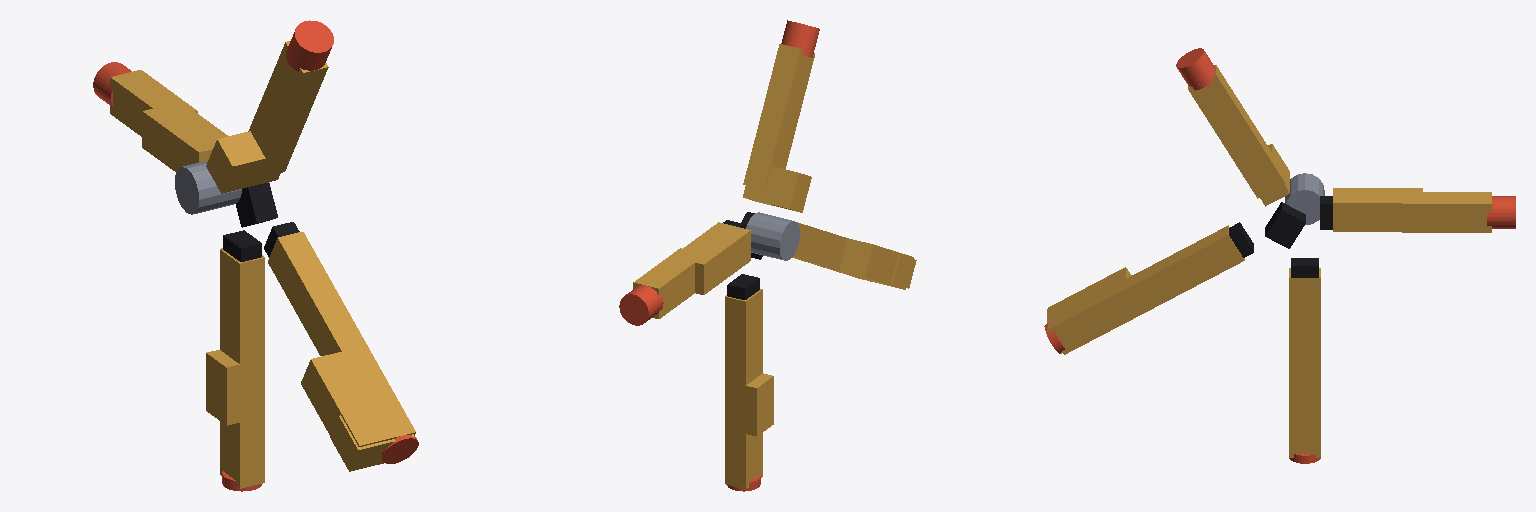
robot.urdf — g0007_c01:
<robot name="g0007_c01">
  <link name="palm">
    <visual name="palm_palm1">
      <origin xyz="0 0 0" rpy="0 0 0" />
      <geometry>
        <mesh filename="palm_palm1.obj" />
      </geometry>
      <material name="palm_palm1_mat">
        <color rgba="0.55 0.57 0.62 1" />
      </material>
    </visual>
    <collision>
      <origin xyz="0 0 0" rpy="0 0 0" />
      <geometry>
        <mesh filename="palm_palm1.obj" />
      </geometry>
    </collision>
    <visual name="palm_mount2">
      <origin xyz="0 0 0" rpy="0 0 0" />
      <geometry>
        <mesh filename="palm_mount2.obj" />
      </geometry>
      <material name="palm_mount2_mat">
        <color rgba="0.55 0.57 0.62 1" />
      </material>
    </visual>
    <collision>
      <origin xyz="0 0 0" rpy="0 0 0" />
      <geometry>
        <mesh filename="palm_mount2.obj" />
      </geometry>
    </collision>
    <visual name="palm_hinge3">
      <origin xyz="0 -0.019910254 -0.0144855716" rpy="1.57079633 -0.523598776 -1.57079633" />
      <geometry>
        <box size="0.029 0.034 0.02" />
      </geometry>
      <material name="palm_hinge3_mat">
        <color rgba="0.15 0.15 0.17 1" />
      </material>
    </visual>
    <collision>
      <origin xyz="0 -0.019910254 -0.0144855716" rpy="1.57079633 -0.523598776 -1.57079633" />
      <geometry>
        <box size="0.029 0.034 0.02" />
      </geometry>
    </collision>
    <visual name="palm_motor4">
      <origin xyz="-0.0265 -0.03625 0.0335048095" rpy="-1.04719755 -3.061617e-17 5.30287619e-17" />
      <geometry>
        <box size="0.029 0.034 0.02" />
      </geometry>
      <material name="palm_motor4_mat">
        <color rgba="0.15 0.15 0.17 1" />
      </material>
    </visual>
    <collision>
      <origin xyz="-0.0265 -0.03625 0.0335048095" rpy="-1.04719755 -3.061617e-17 5.30287619e-17" />
      <geometry>
        <box size="0.029 0.034 0.02" />
      </geometry>
    </collision>
    <visual name="palm_motor5">
      <origin xyz="0 0.0325 -4.5924255e-19" rpy="-3.14159265 1.57079633 0" />
      <geometry>
        <box size="0.029 0.034 0.02" />
      </geometry>
      <material name="palm_motor5_mat">
        <color rgba="0.15 0.15 0.17 1" />
      </material>
    </visual>
    <collision>
      <origin xyz="0 0.0325 -4.5924255e-19" rpy="-3.14159265 1.57079633 0" />
      <geometry>
        <box size="0.029 0.034 0.02" />
      </geometry>
    </collision>
    <inertial>
      <origin xyz="0 -0.00486983196 0.0078646314" rpy="1.57079633 0.505697637 1.57079633" />
      <mass value="0.314803238" />
      <inertia ixx="0.000115396205" ixy="0" ixz="0" iyy="0.000393935147" iyz="0" izz="0.000479110242" />
    </inertial>
  </link>
  <link name="palm0">
    <visual name="palm0_palm1">
      <origin xyz="0 0 0" rpy="0 0 0" />
      <geometry>
        <mesh filename="palm0_palm1.obj" />
      </geometry>
      <material name="palm0_palm1_mat">
        <color rgba="0.55 0.57 0.62 1" />
      </material>
    </visual>
    <collision>
      <origin xyz="0 0 0" rpy="0 0 0" />
      <geometry>
        <mesh filename="palm0_palm1.obj" />
      </geometry>
    </collision>
    <visual name="palm0_motor2">
      <origin xyz="0 -0.0498445554 -0.0152692379" rpy="1.57079633 -1.04719755 -1.57079633" />
      <geometry>
        <box size="0.029 0.034 0.02" />
      </geometry>
      <material name="palm0_motor2_mat">
        <color rgba="0.15 0.15 0.17 1" />
      </material>
    </visual>
    <collision>
      <origin xyz="0 -0.0498445554 -0.0152692379" rpy="1.57079633 -1.04719755 -1.57079633" />
      <geometry>
        <box size="0.029 0.034 0.02" />
      </geometry>
    </collision>
    <visual name="palm0_motor3">
      <origin xyz="0 0.023660254 -0.0515192379" rpy="1.57079633 1.2246468e-16 -1.57079633" />
      <geometry>
        <box size="0.029 0.034 0.02" />
      </geometry>
      <material name="palm0_motor3_mat">
        <color rgba="0.15 0.15 0.17 1" />
      </material>
    </visual>
    <collision>
      <origin xyz="0 0.023660254 -0.0515192379" rpy="1.57079633 1.2246468e-16 -1.57079633" />
      <geometry>
        <box size="0.029 0.034 0.02" />
      </geometry>
    </collision>
    <inertial>
      <origin xyz="-4.36574526e-19 -0.0128284842 -0.0281122039" rpy="1.57079633 0.502992561 1.57079633" />
      <mass value="0.282942844" />
      <inertia ixx="8.18050771e-05" ixy="0" ixz="0" iyy="0.000371115381" iyz="0" izz="0.000425757945" />
    </inertial>
  </link>
  <link name="f0_link0">
    <visual name="f0_link0_link1">
      <origin xyz="0.02375 0 -1.38777878e-17" rpy="0 -3.98552134e-18 0" />
      <geometry>
        <box size="0.0715 0.024 0.033" />
      </geometry>
      <material name="f0_link0_link1_mat">
        <color rgba="0.80 0.62 0.30 1" />
      </material>
    </visual>
    <collision>
      <origin xyz="0.02375 0 -1.38777878e-17" rpy="0 -3.98552134e-18 0" />
      <geometry>
        <box size="0.0715 0.024 0.033" />
      </geometry>
    </collision>
    <inertial>
      <origin xyz="0.02375 0 0" rpy="0 0 0" />
      <mass value="0.099099" />
      <inertia ixx="1.37499863e-05" ixy="0" ixz="0" iyy="5.12114728e-05" iyz="0" izz="4.69749906e-05" />
    </inertial>
  </link>
  <link name="f0_link1">
    <visual name="f0_link1_link1">
      <origin xyz="0.03375 0 -7.80625564e-18" rpy="0 -3.98552134e-18 0" />
      <geometry>
        <box size="0.0915 0.024 0.033" />
      </geometry>
      <material name="f0_link1_link1_mat">
        <color rgba="0.80 0.62 0.30 1" />
      </material>
    </visual>
    <collision>
      <origin xyz="0.03375 0 -7.80625564e-18" rpy="0 -3.98552134e-18 0" />
      <geometry>
        <box size="0.0915 0.024 0.033" />
      </geometry>
    </collision>
    <inertial>
      <origin xyz="0.03375 0 0" rpy="0 0 0" />
      <mass value="0.126819" />
      <inertia ixx="1.75961363e-05" ixy="0" ixz="0" iyy="9.99888553e-05" iyz="0" izz="9.45673431e-05" />
    </inertial>
  </link>
  <link name="f0_link2">
    <visual name="f0_link2_link1">
      <origin xyz="0.03375 -0.0145 -1.82145965e-17" rpy="0 -3.98552134e-18 0" />
      <geometry>
        <box size="0.0915 0.053 0.033" />
      </geometry>
      <material name="f0_link2_link1_mat">
        <color rgba="0.80 0.62 0.30 1" />
      </material>
    </visual>
    <collision>
      <origin xyz="0.03375 -0.0145 -1.82145965e-17" rpy="0 -3.98552134e-18 0" />
      <geometry>
        <box size="0.0915 0.053 0.033" />
      </geometry>
    </collision>
    <inertial>
      <origin xyz="0.03375 -0.0145 0" rpy="0 0 0" />
      <mass value="0.280058625" />
      <inertia ixx="9.09723767e-05" ixy="0" ixz="0" iyy="0.000220808722" iyz="0" izz="0.000260950458" />
    </inertial>
  </link>
  <link name="f0_link3">
    <visual name="f0_link3_link1">
      <origin xyz="-0.00625 -0.0165 7.80625564e-18" rpy="0 -3.98552134e-18 0" />
      <geometry>
        <box size="0.0365 0.053 0.029" />
      </geometry>
      <material name="f0_link3_link1_mat">
        <color rgba="0.80 0.62 0.30 1" />
      </material>
    </visual>
    <collision>
      <origin xyz="-0.00625 -0.0165 7.80625564e-18" rpy="0 -3.98552134e-18 0" />
      <geometry>
        <box size="0.0365 0.053 0.029" />
      </geometry>
    </collision>
    <inertial>
      <origin xyz="-0.00625 -0.0165 0" rpy="0 0 0" />
      <mass value="0.098175875" />
      <inertia ixx="2.98618286e-05" ixy="0" ixz="0" iyy="1.778006e-05" iyz="0" izz="3.38809035e-05" />
    </inertial>
  </link>
  <link name="f0_link4">
    <visual name="f0_link4_link1">
      <origin xyz="0.009 0 -1.77809156e-17" rpy="-1.57079633 -0 -1.57079633" />
      <geometry>
        <cylinder radius="0.0165" length="0.009" />
      </geometry>
      <material name="f0_link4_link1_mat">
        <color rgba="0.85 0.35 0.25 1" />
      </material>
    </visual>
    <collision>
      <origin xyz="0.009 0 -1.77809156e-17" rpy="-1.57079633 -0 -1.57079633" />
      <geometry>
        <cylinder radius="0.0165" length="0.009" />
      </geometry>
    </collision>
    <inertial>
      <origin xyz="0.009 0 0" rpy="0 0 0" />
      <mass value="0.046399949" />
      <inertia ixx="5.41970115e-06" ixy="0" ixz="0" iyy="7.09430898e-06" iyz="0" izz="7.09430898e-06" />
    </inertial>
  </link>
  <link name="f1_link0">
    <visual name="f1_link0_link1">
      <origin xyz="-0.00625 -0.0165 0" rpy="0 3.98552134e-18 0" />
      <geometry>
        <box size="0.0365 0.053 0.029" />
      </geometry>
      <material name="f1_link0_link1_mat">
        <color rgba="0.80 0.62 0.30 1" />
      </material>
    </visual>
    <collision>
      <origin xyz="-0.00625 -0.0165 0" rpy="0 3.98552134e-18 0" />
      <geometry>
        <box size="0.0365 0.053 0.029" />
      </geometry>
    </collision>
    <inertial>
      <origin xyz="-0.00625 -0.0165 0" rpy="0 0 0" />
      <mass value="0.098175875" />
      <inertia ixx="2.98618286e-05" ixy="0" ixz="0" iyy="1.778006e-05" iyz="0" izz="3.38809035e-05" />
    </inertial>
  </link>
  <link name="f1_link1">
    <visual name="f1_link1_link1">
      <origin xyz="0.03375 0 -8.67361738e-18" rpy="0 3.98552134e-18 0" />
      <geometry>
        <box size="0.0915 0.024 0.033" />
      </geometry>
      <material name="f1_link1_link1_mat">
        <color rgba="0.80 0.62 0.30 1" />
      </material>
    </visual>
    <collision>
      <origin xyz="0.03375 0 -8.67361738e-18" rpy="0 3.98552134e-18 0" />
      <geometry>
        <box size="0.0915 0.024 0.033" />
      </geometry>
    </collision>
    <inertial>
      <origin xyz="0.03375 0 0" rpy="0 0 0" />
      <mass value="0.126819" />
      <inertia ixx="1.75961363e-05" ixy="0" ixz="0" iyy="9.99888553e-05" iyz="0" izz="9.45673431e-05" />
    </inertial>
  </link>
  <link name="f1_link2">
    <visual name="f1_link2_link1">
      <origin xyz="0.02375 0 -8.67361738e-18" rpy="0 3.98552134e-18 0" />
      <geometry>
        <box size="0.0715 0.024 0.033" />
      </geometry>
      <material name="f1_link2_link1_mat">
        <color rgba="0.80 0.62 0.30 1" />
      </material>
    </visual>
    <collision>
      <origin xyz="0.02375 0 -8.67361738e-18" rpy="0 3.98552134e-18 0" />
      <geometry>
        <box size="0.0715 0.024 0.033" />
      </geometry>
    </collision>
    <inertial>
      <origin xyz="0.02375 0 0" rpy="0 0 0" />
      <mass value="0.099099" />
      <inertia ixx="1.37499863e-05" ixy="0" ixz="0" iyy="5.12114728e-05" iyz="0" izz="4.69749906e-05" />
    </inertial>
  </link>
  <link name="f1_link3">
    <visual name="f1_link3_link1">
      <origin xyz="0.019 0 -5.20417043e-18" rpy="-1.57079633 -0 -1.57079633" />
      <geometry>
        <cylinder radius="0.0165" length="0.029" />
      </geometry>
      <material name="f1_link3_link1_mat">
        <color rgba="0.85 0.35 0.25 1" />
      </material>
    </visual>
    <collision>
      <origin xyz="0.019 0 -5.20417043e-18" rpy="-1.57079633 -0 -1.57079633" />
      <geometry>
        <cylinder radius="0.0165" length="0.029" />
      </geometry>
    </collision>
    <inertial>
      <origin xyz="0.019 0 0" rpy="0 0 0" />
      <mass value="0.0763354" />
      <inertia ixx="9.49466441e-06" ixy="0" ixz="0" iyy="2.24143997e-05" iyz="0" izz="2.24143997e-05" />
    </inertial>
  </link>
  <link name="f2_link0">
    <visual name="f2_link0_link1">
      <origin xyz="0.04375 0 0" rpy="0 -0 0" />
      <geometry>
        <box size="0.1115 0.024 0.033" />
      </geometry>
      <material name="f2_link0_link1_mat">
        <color rgba="0.80 0.62 0.30 1" />
      </material>
    </visual>
    <collision>
      <origin xyz="0.04375 0 0" rpy="0 -0 0" />
      <geometry>
        <box size="0.1115 0.024 0.033" />
      </geometry>
    </collision>
    <inertial>
      <origin xyz="0.04375 0 0" rpy="0 0 0" />
      <mass value="0.154539" />
      <inertia ixx="2.14422863e-05" ixy="0" ixz="0" iyy="0.000174130038" iyz="0" izz="0.000167523496" />
    </inertial>
  </link>
  <link name="f2_link1">
    <visual name="f2_link1_link1">
      <origin xyz="0.014 -0.00625 -1.54074396e-33" rpy="0 -0 0" />
      <geometry>
        <box size="0.052 0.0365 0.033" />
      </geometry>
      <material name="f2_link1_link1_mat">
        <color rgba="0.80 0.62 0.30 1" />
      </material>
    </visual>
    <collision>
      <origin xyz="0.014 -0.00625 -1.54074396e-33" rpy="0 -0 0" />
      <geometry>
        <box size="0.052 0.0365 0.033" />
      </geometry>
    </collision>
    <inertial>
      <origin xyz="0.014 -0.00625 0" rpy="0 0 0" />
      <mass value="0.1096095" />
      <inertia ixx="2.21160002e-05" ixy="0" ixz="0" iyy="3.46457361e-05" iyz="0" izz="3.6867612e-05" />
    </inertial>
  </link>
  <link name="f2_link2">
    <visual name="f2_link2_link1">
      <origin xyz="0.02875 0 -1.54074396e-33" rpy="0 -0 0" />
      <geometry>
        <box size="0.0815 0.024 0.033" />
      </geometry>
      <material name="f2_link2_link1_mat">
        <color rgba="0.80 0.62 0.30 1" />
      </material>
    </visual>
    <collision>
      <origin xyz="0.02875 0 -1.54074396e-33" rpy="0 -0 0" />
      <geometry>
        <box size="0.0815 0.024 0.033" />
      </geometry>
    </collision>
    <inertial>
      <origin xyz="0.02875 0 0" rpy="0 0 0" />
      <mass value="0.112959" />
      <inertia ixx="1.56730613e-05" ixy="0" ixz="0" iyy="7.27761891e-05" iyz="0" izz="6.79471918e-05" />
    </inertial>
  </link>
  <link name="f2_link3">
    <visual name="f2_link3_link1">
      <origin xyz="0.009 0 -1.54074396e-33" rpy="-1.57079633 -0 -1.57079633" />
      <geometry>
        <cylinder radius="0.0165" length="0.009" />
      </geometry>
      <material name="f2_link3_link1_mat">
        <color rgba="0.85 0.35 0.25 1" />
      </material>
    </visual>
    <collision>
      <origin xyz="0.009 0 -1.54074396e-33" rpy="-1.57079633 -0 -1.57079633" />
      <geometry>
        <cylinder radius="0.0165" length="0.009" />
      </geometry>
    </collision>
    <inertial>
      <origin xyz="0.009 0 0" rpy="0 0 0" />
      <mass value="0.046399949" />
      <inertia ixx="5.41970115e-06" ixy="0" ixz="0" iyy="7.09430898e-06" iyz="0" izz="7.09430898e-06" />
    </inertial>
  </link>
  <link name="f3_link0">
    <visual name="f3_link0_link1">
      <origin xyz="0.014 -0.00625 0" rpy="0 -0 0" />
      <geometry>
        <box size="0.052 0.0365 0.033" />
      </geometry>
      <material name="f3_link0_link1_mat">
        <color rgba="0.80 0.62 0.30 1" />
      </material>
    </visual>
    <collision>
      <origin xyz="0.014 -0.00625 0" rpy="0 -0 0" />
      <geometry>
        <box size="0.052 0.0365 0.033" />
      </geometry>
    </collision>
    <inertial>
      <origin xyz="0.014 -0.00625 0" rpy="0 0 0" />
      <mass value="0.1096095" />
      <inertia ixx="2.21160002e-05" ixy="0" ixz="0" iyy="3.46457361e-05" iyz="0" izz="3.6867612e-05" />
    </inertial>
  </link>
  <link name="f3_link1">
    <visual name="f3_link1_link1">
      <origin xyz="0.019 -0.00625 -1.15555797e-33" rpy="0 -0 0" />
      <geometry>
        <box size="0.062 0.0365 0.033" />
      </geometry>
      <material name="f3_link1_link1_mat">
        <color rgba="0.80 0.62 0.30 1" />
      </material>
    </visual>
    <collision>
      <origin xyz="0.019 -0.00625 -1.15555797e-33" rpy="0 -0 0" />
      <geometry>
        <box size="0.062 0.0365 0.033" />
      </geometry>
    </collision>
    <inertial>
      <origin xyz="0.019 -0.00625 0" rpy="0 0 0" />
      <mass value="0.13068825" />
      <inertia ixx="2.63690771e-05" ixy="0" ixz="0" iyy="5.37237614e-05" iyz="0" izz="5.63729212e-05" />
    </inertial>
  </link>
  <link name="f3_link2">
    <visual name="f3_link2_link1">
      <origin xyz="0.03375 0 0" rpy="0 -0 0" />
      <geometry>
        <box size="0.0915 0.029 0.033" />
      </geometry>
      <material name="f3_link2_link1_mat">
        <color rgba="0.80 0.62 0.30 1" />
      </material>
    </visual>
    <collision>
      <origin xyz="0.03375 0 0" rpy="0 -0 0" />
      <geometry>
        <box size="0.0915 0.029 0.033" />
      </geometry>
    </collision>
    <inertial>
      <origin xyz="0.03375 0 0" rpy="0 0 0" />
      <mass value="0.153239625" />
      <inertia ixx="2.46460397e-05" ixy="0" ixz="0" iyy="0.000120819867" iyz="0" izz="0.000117652915" />
    </inertial>
  </link>
  <link name="f3_link3">
    <visual name="f3_link3_link1">
      <origin xyz="0.019 0 0" rpy="-1.57079633 -0 -1.57079633" />
      <geometry>
        <cylinder radius="0.0165" length="0.029" />
      </geometry>
      <material name="f3_link3_link1_mat">
        <color rgba="0.85 0.35 0.25 1" />
      </material>
    </visual>
    <collision>
      <origin xyz="0.019 0 0" rpy="-1.57079633 -0 -1.57079633" />
      <geometry>
        <cylinder radius="0.0165" length="0.029" />
      </geometry>
    </collision>
    <inertial>
      <origin xyz="0.019 0 0" rpy="0 0 0" />
      <mass value="0.0763354" />
      <inertia ixx="9.49466441e-06" ixy="0" ixz="0" iyy="2.24143997e-05" iyz="0" izz="2.24143997e-05" />
    </inertial>
  </link>
  <joint name="palm0_joint" type="revolute">
    <parent link="palm" />
    <child link="palm0" />
    <origin xyz="0 -0.023660254 -0.0209807621" rpy="0 0 0" />
    <axis xyz="0 -0.866025404 0.5" />
    <limit effort="0.5" lower="-0.523598776" upper="0.523598776" velocity="5" />
    <dynamics damping="0.0775033" friction="0" />
  </joint>
  <joint name="f0_j0" type="revolute">
    <parent link="palm0" />
    <child link="f0_link0" />
    <origin xyz="0 -0.056339746 -0.0190192379" rpy="0 0.523598776 -1.57079633" />
    <axis xyz="0 0 1" />
    <limit effort="0.5" lower="-0.523598776" upper="1.57079633" velocity="5" />
    <dynamics damping="0.0775033" friction="0" />
  </joint>
  <joint name="f0_j1" type="revolute">
    <parent link="f0_link0" />
    <child link="f0_link1" />
    <origin xyz="0.05 0 0" rpy="0 0 0" />
    <axis xyz="0 0 1" />
    <limit effort="0.5" lower="-0.523598776" upper="1.57079633" velocity="5" />
    <dynamics damping="0.0775033" friction="0" />
  </joint>
  <joint name="f0_j2" type="revolute">
    <parent link="f0_link1" />
    <child link="f0_link2" />
    <origin xyz="0.07 0 0" rpy="0 0 0" />
    <axis xyz="0 0 1" />
    <limit effort="0.5" lower="-0.523598776" upper="1.57079633" velocity="5" />
    <dynamics damping="0.0775033" friction="0" />
  </joint>
  <joint name="f0_j3" type="revolute">
    <parent link="f0_link2" />
    <child link="f0_link3" />
    <origin xyz="0.07 0 0" rpy="0 0 0" />
    <axis xyz="0 1 6.123234e-17" />
    <limit effort="0.5" lower="-0.523598776" upper="0.523598776" velocity="5" />
    <dynamics damping="0.0775033" friction="0" />
  </joint>
  <joint name="f0_j4" type="revolute">
    <parent link="f0_link3" />
    <child link="f0_link4" />
    <origin xyz="0 0 0" rpy="0 0 0" />
    <axis xyz="0 0 1" />
    <limit effort="0.5" lower="-0.523598776" upper="1.57079633" velocity="5" />
    <dynamics damping="0.0775033" friction="0" />
  </joint>
  <joint name="f1_j0" type="revolute">
    <parent link="palm" />
    <child link="f1_link0" />
    <origin xyz="0 -0.04 0.04" rpy="-0 -1.04719755 -1.57079633" />
    <axis xyz="-0 -1 -6.123234e-17" />
    <limit effort="0.5" lower="-0.523598776" upper="0.523598776" velocity="5" />
    <dynamics damping="0.0775033" friction="0" />
  </joint>
  <joint name="f1_j1" type="revolute">
    <parent link="f1_link0" />
    <child link="f1_link1" />
    <origin xyz="0 0 0" rpy="0 0 0" />
    <axis xyz="0 0 1" />
    <limit effort="0.5" lower="-0.523598776" upper="1.57079633" velocity="5" />
    <dynamics damping="0.0775033" friction="0" />
  </joint>
  <joint name="f1_j2" type="revolute">
    <parent link="f1_link1" />
    <child link="f1_link2" />
    <origin xyz="0.07 0 0" rpy="0 0 0" />
    <axis xyz="0 0 1" />
    <limit effort="0.5" lower="-0.523598776" upper="1.57079633" velocity="5" />
    <dynamics damping="0.0775033" friction="0" />
  </joint>
  <joint name="f1_j3" type="revolute">
    <parent link="f1_link2" />
    <child link="f1_link3" />
    <origin xyz="0.05 0 0" rpy="0 0 0" />
    <axis xyz="0 0 1" />
    <limit effort="0.5" lower="-0.523598776" upper="1.57079633" velocity="5" />
    <dynamics damping="0.0775033" friction="0" />
  </joint>
  <joint name="f2_j0" type="revolute">
    <parent link="palm0" />
    <child link="f2_link0" />
    <origin xyz="0 0.023660254 -0.0590192379" rpy="1.57079633 1.57079633 0" />
    <axis xyz="0 0 1" />
    <limit effort="0.5" lower="-0.523598776" upper="1.57079633" velocity="5" />
    <dynamics damping="0.0775033" friction="0" />
  </joint>
  <joint name="f2_j1" type="revolute">
    <parent link="f2_link0" />
    <child link="f2_link1" />
    <origin xyz="0.09 0 0" rpy="0 0 0" />
    <axis xyz="0 0 1" />
    <limit effort="0.5" lower="-0.523598776" upper="1.57079633" velocity="5" />
    <dynamics damping="0.0775033" friction="0" />
  </joint>
  <joint name="f2_j2" type="revolute">
    <parent link="f2_link1" />
    <child link="f2_link2" />
    <origin xyz="0.03 0 0" rpy="0 0 0" />
    <axis xyz="0 0 1" />
    <limit effort="0.5" lower="-0.523598776" upper="1.57079633" velocity="5" />
    <dynamics damping="0.0775033" friction="0" />
  </joint>
  <joint name="f2_j3" type="revolute">
    <parent link="f2_link2" />
    <child link="f2_link3" />
    <origin xyz="0.06 0 0" rpy="0 0 0" />
    <axis xyz="0 0 1" />
    <limit effort="0.5" lower="-0.523598776" upper="1.57079633" velocity="5" />
    <dynamics damping="0.0775033" friction="0" />
  </joint>
  <joint name="f3_j0" type="revolute">
    <parent link="palm" />
    <child link="f3_link0" />
    <origin xyz="0 0.04 0" rpy="-3.14159265 -6.123234e-17 1.57079633" />
    <axis xyz="0 0 1" />
    <limit effort="0.5" lower="-0.523598776" upper="1.57079633" velocity="5" />
    <dynamics damping="0.0775033" friction="0" />
  </joint>
  <joint name="f3_j1" type="revolute">
    <parent link="f3_link0" />
    <child link="f3_link1" />
    <origin xyz="0.03 0 0" rpy="0 0 0" />
    <axis xyz="0 0 1" />
    <limit effort="0.5" lower="-0.523598776" upper="1.57079633" velocity="5" />
    <dynamics damping="0.0775033" friction="0" />
  </joint>
  <joint name="f3_j2" type="revolute">
    <parent link="f3_link1" />
    <child link="f3_link2" />
    <origin xyz="0.04 0 0" rpy="0 0 0" />
    <axis xyz="0 0 1" />
    <limit effort="0.5" lower="-0.523598776" upper="1.57079633" velocity="5" />
    <dynamics damping="0.0775033" friction="0" />
  </joint>
  <joint name="f3_j3" type="revolute">
    <parent link="f3_link2" />
    <child link="f3_link3" />
    <origin xyz="0.07 0 0" rpy="0 0 0" />
    <axis xyz="0 1 6.123234e-17" />
    <limit effort="0.5" lower="-0.523598776" upper="0.523598776" velocity="5" />
    <dynamics damping="0.0775033" friction="0" />
  </joint>
</robot>

--- Facts derived from the render (not from the file) ---
The picture shows the robot from 3 angles, left to right: view 1: azimuth 30°, elevation 25°; view 2: azimuth 150°, elevation 25°; view 3: azimuth 270°, elevation 25°; orthographic projection.
Robot: g0007_c01 — 19 links, 18 joints (18 revolute); root link palm; default pose: every joint at zero.
Visible links, largest first — view 1: f0_link2, f2_link0, f2_link1, palm, f0_link1, f0_link0, f2_link2, f1_link1, f1_link0, f3_link2, f1_link2, f3_link0 (+6 smaller); view 2: f2_link0, f1_link1, f2_link1, f3_link2, palm, f1_link2, f0_link2, f2_link2, f1_link0, f3_link1, f3_link0, f3_link3 (+5 smaller); view 3: f0_link2, f3_link2, f2_link0, palm, f1_link1, f0_link1, f0_link0, f3_link0, f1_link2, f2_link2, f3_link1, f1_link3 (+4 smaller).
Boxes of the visible links, x1,y1,x2,y2 form: f0_link2: [301, 345, 415, 446]; f2_link0: [220, 248, 264, 386]; f2_link1: [206, 350, 264, 425]; palm: [175, 161, 277, 227]; f0_link1: [294, 279, 378, 370]; f0_link0: [268, 232, 340, 324]; f2_link2: [220, 395, 264, 488]; f1_link1: [248, 87, 312, 177]; f1_link0: [206, 131, 280, 193]; f3_link2: [110, 70, 197, 136]; f1_link2: [264, 41, 328, 124]; f3_link0: [167, 120, 227, 171]; f2_link0: [725, 289, 762, 385]; f1_link1: [743, 94, 802, 189]; f2_link1: [725, 373, 773, 436]; f3_link2: [633, 248, 705, 318]; palm: [723, 205, 799, 260]; f1_link2: [761, 44, 814, 122]; f0_link2: [833, 238, 913, 289]; f2_link2: [725, 410, 762, 488]; f1_link0: [743, 166, 811, 212]; f3_link1: [672, 234, 735, 294]; f3_link0: [701, 222, 750, 279]; f3_link3: [619, 285, 663, 325]; f0_link2: [1048, 267, 1138, 354]; f3_link2: [1402, 192, 1491, 232]; f2_link0: [1289, 268, 1320, 377]; palm: [1265, 173, 1332, 248]; f1_link1: [1214, 113, 1285, 198]; f0_link1: [1108, 248, 1200, 323]; f0_link0: [1167, 225, 1244, 292]; f3_link0: [1333, 188, 1383, 231]; f1_link2: [1188, 65, 1250, 143]; f2_link2: [1289, 393, 1320, 457]; f3_link1: [1362, 188, 1422, 231]; f1_link3: [1176, 48, 1215, 90].
Size in the robot's own frame: 0.0685 by 0.478 by 0.4547 metres.
Meshes: 3 distinct files referenced, 1 mesh visuals loaded (1 OBJ); not drawn: 2 (reference not matched to a file when rendering).
